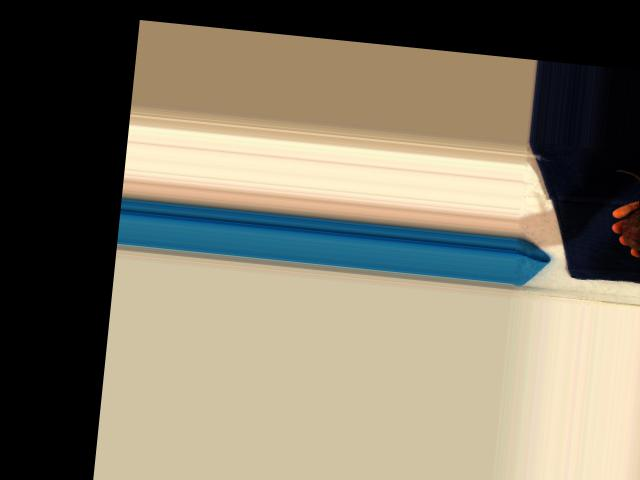beet: (604, 169, 640, 267)
